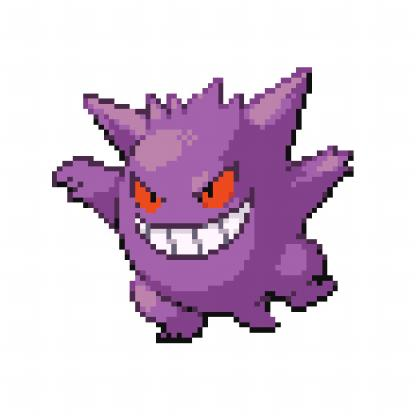Gengar: (58, 59, 360, 370)
